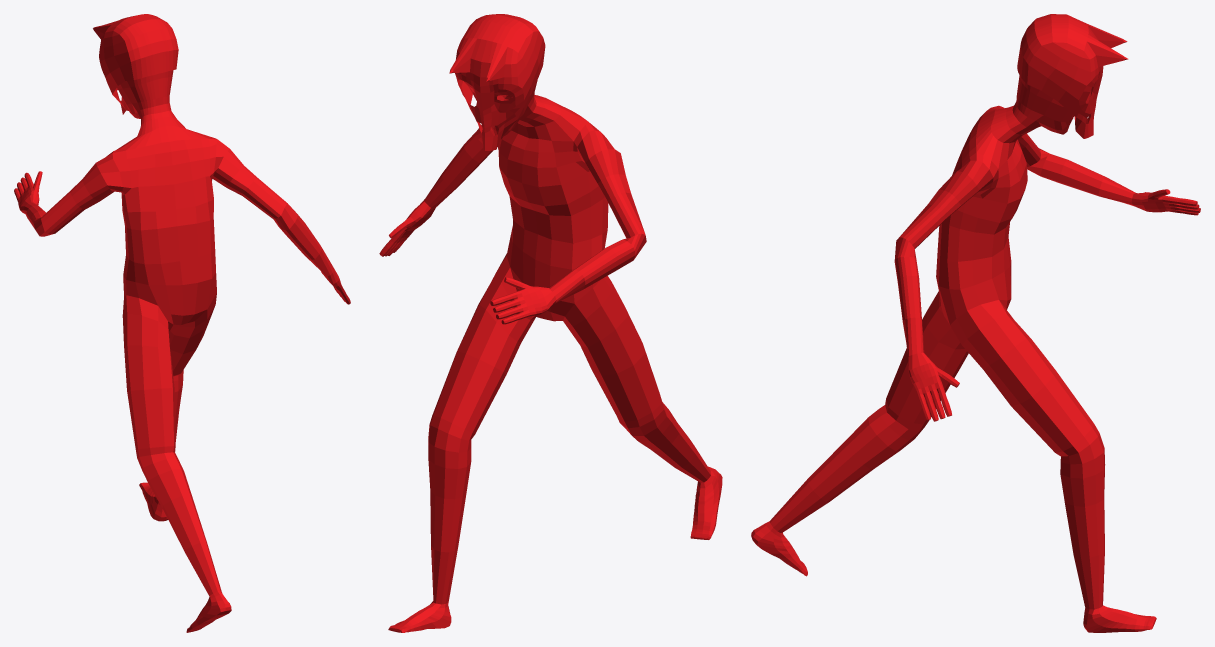
Rendered from marchaE_000054.obj.
The picture shows the model from 3 angles, left to right: view 1: azimuth 30°, elevation 25°; view 2: azimuth 150°, elevation 25°; view 3: azimuth 270°, elevation 25°; orthographic projection. The views are drawn at different scales.
Parts seen in each view (by area): view 1: Plane.002_Plane.001; view 2: Plane.002_Plane.001; view 3: Plane.002_Plane.001.
Boxes of the visible parts, <box> form: Plane.002_Plane.001: <box>14,14,350,632</box>; Plane.002_Plane.001: <box>379,14,722,632</box>; Plane.002_Plane.001: <box>751,14,1200,632</box>.
Bounding box in the file's own units: 3.46 × 6.51 × 4.49.
